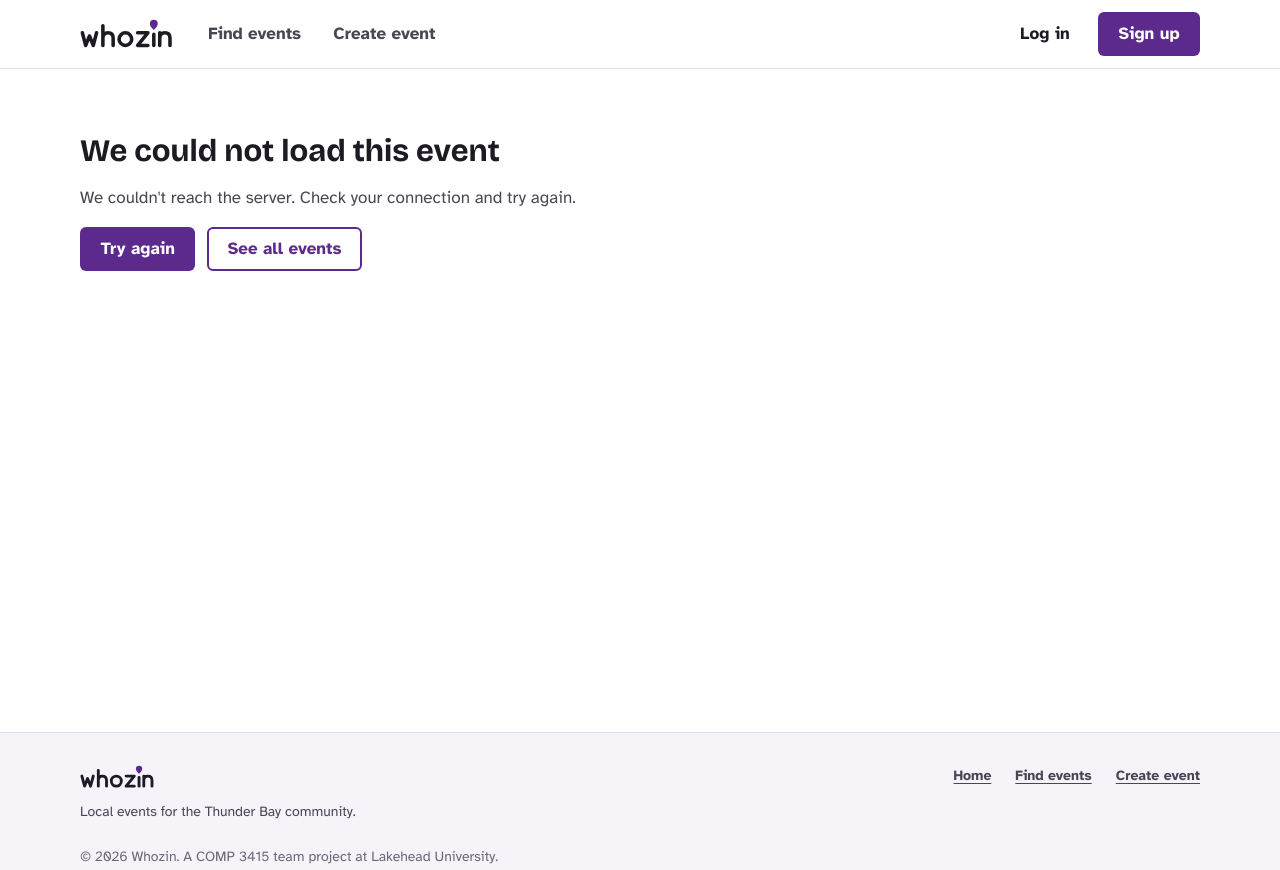
Test case: event page › shows an error and loads the event again with Try again
This screenshot has width=1280, height=870.
Expected: the heading "We could not load this event" is shown, [80,133,500,169]
Expected: the message shows "We couldn't reach the server.", [80,187,576,208]
Click the button "Try again".
click(138, 249)  # box [80,227,195,271]
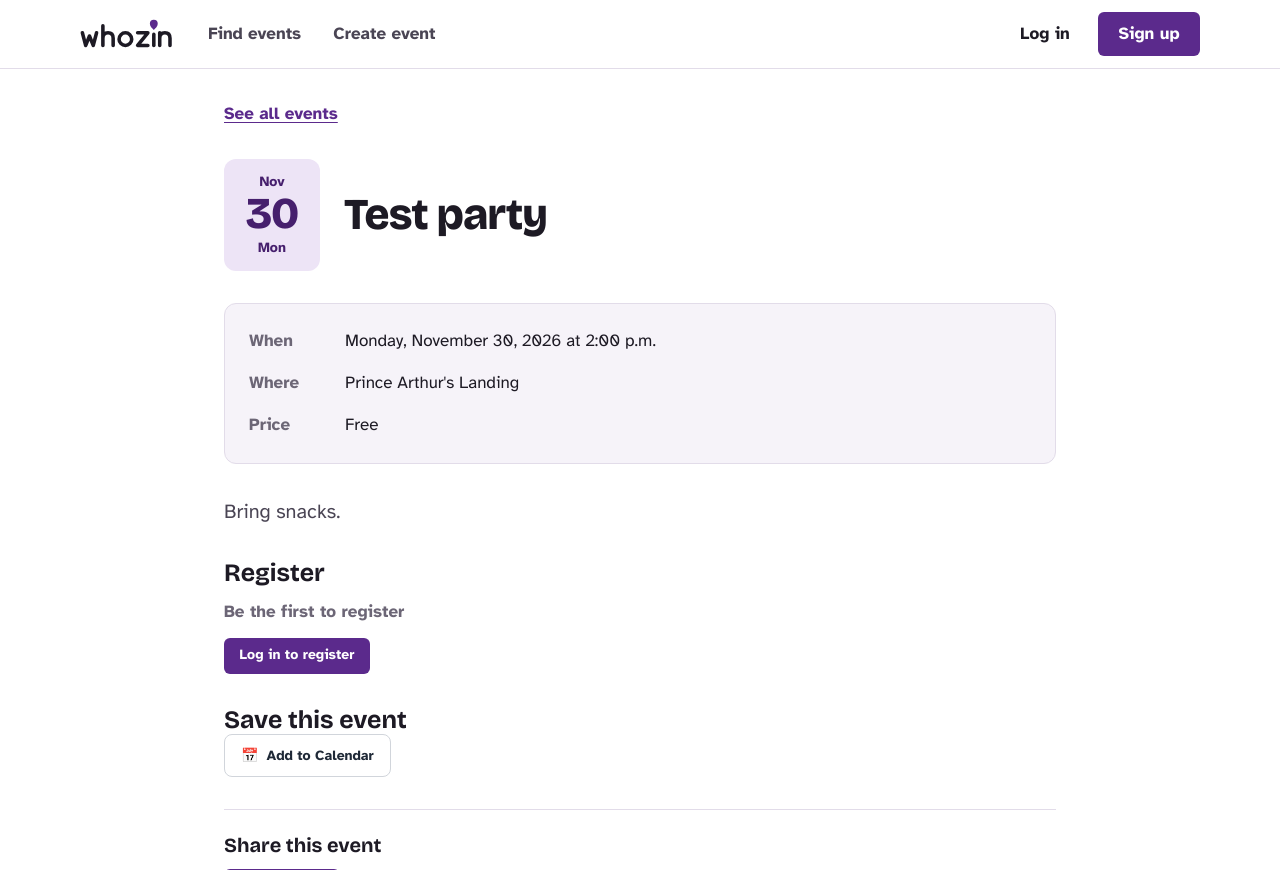
Expected: the heading "Test party" is shown, [344,190,547,240]
